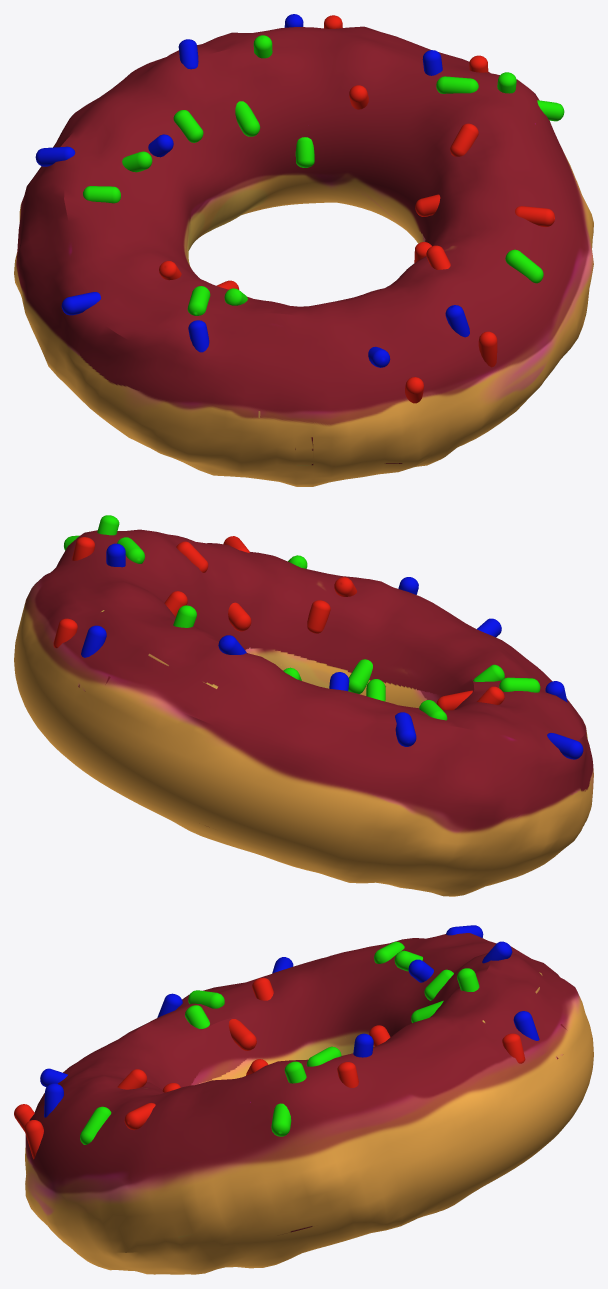
Rendered from donut.fbx.
3 views of the same model, one above another, from view 1: azimuth 30°, elevation 25°; view 2: azimuth 150°, elevation 25°; view 3: azimuth 270°, elevation 25° (orthographic). The views are drawn at different scales.
Parts seen in each view (by area): view 1: Donut.001; view 2: Donut.001; view 3: Donut.001.
Boxes of the visible parts, x1,y1,x2,y2 form: Donut.001: (14,14,593,486); Donut.001: (14,515,593,896); Donut.001: (14,925,593,1274).
Bounding box in the file's own units: 288 × 159 × 282.
